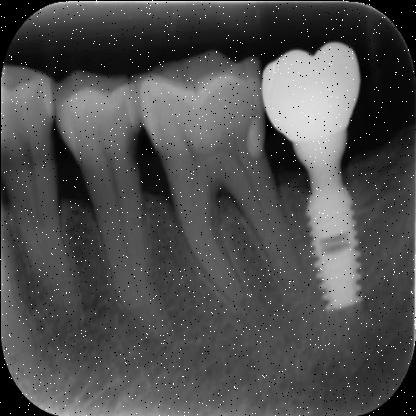Bicon: (300, 186, 363, 311)
